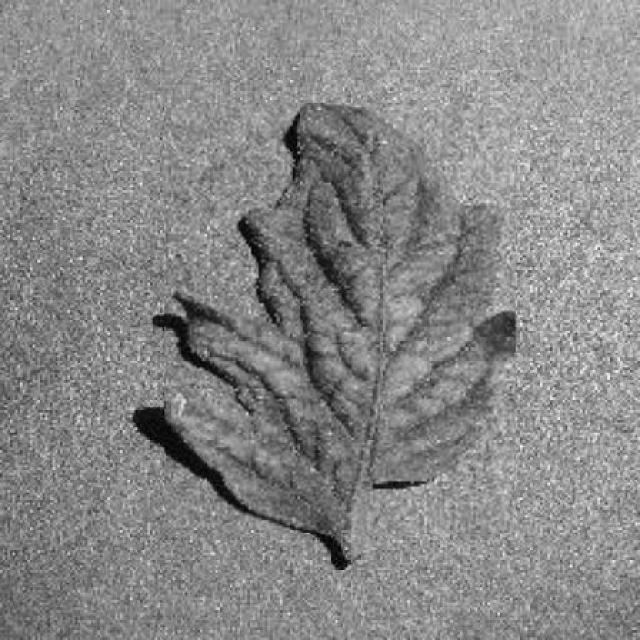Mosaic Virus: (165, 104, 516, 535)
